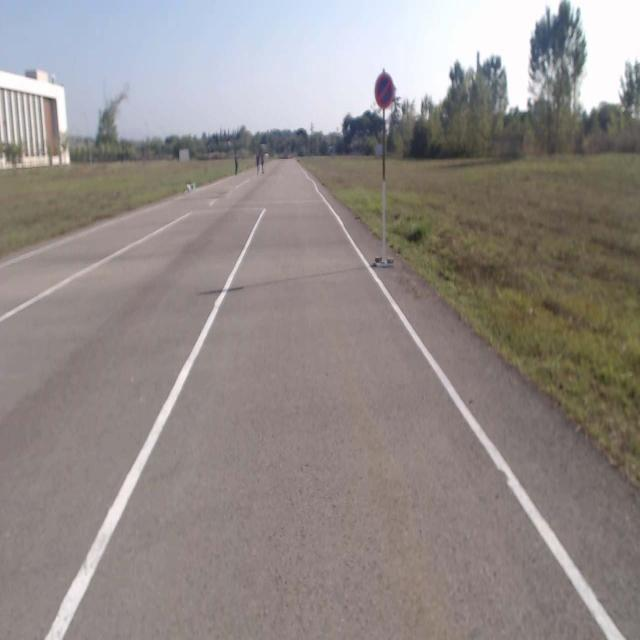parkyasak: (376, 73, 394, 108)
